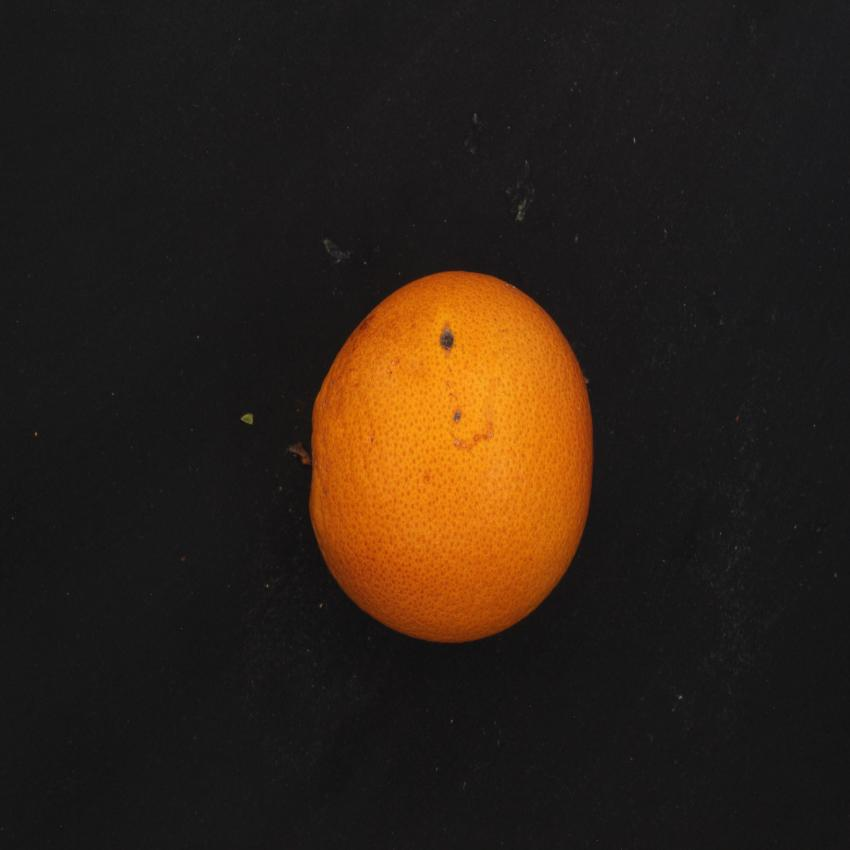Buen estado: (300, 263, 608, 659)
